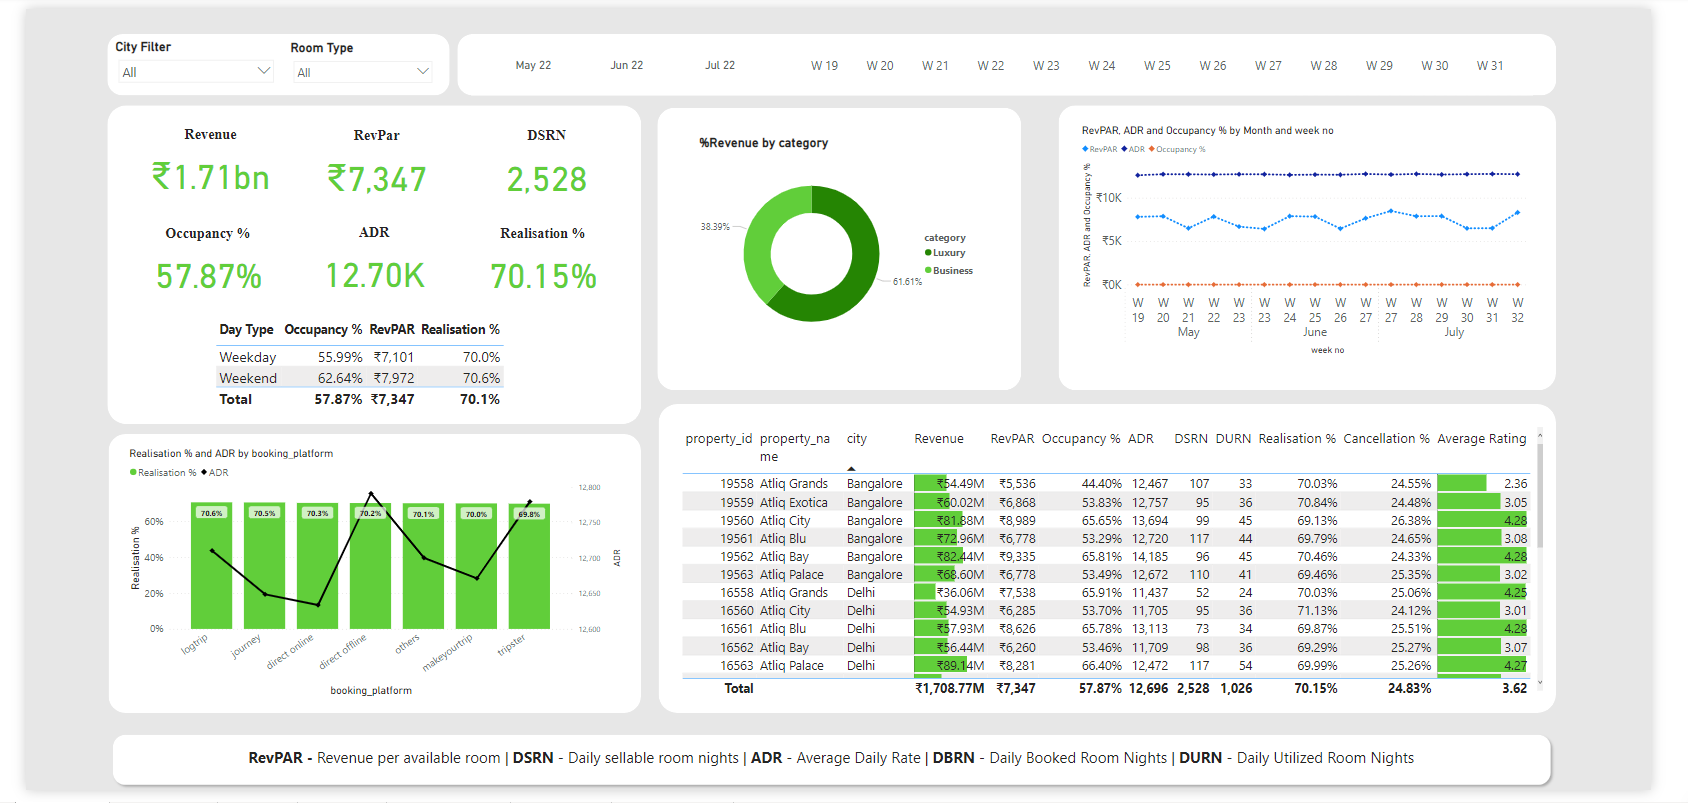

The dashboard page shown, as its layout file describes it:
{"tool":"powerbi","page":{"name":"Page 1","canvas":[2600,1250],"ordinal":0},"visuals":[{"type":"shape","box":[1012,632,1436,494],"z":0},{"type":"shape","box":[132,680,852,446],"z":1000},{"type":"shape","box":[1652,154,796,456],"z":2000},{"type":"shape","box":[1010,158,582,452],"z":3000},{"type":"shape","box":[130,154,854,510],"z":4000},{"type":"shape","box":[690,40,1758,98],"z":5000},{"type":"shape","box":[130,40,548,98],"z":6000},{"type":"tableEx","fields":{"Values":["dim_hotels.property_id","dim_hotels.property_name","dim_hotels.city","key_measure.Revenue","key_measure.RevPAR","key_measure.Occupancy %","key_measure.ADR","key_measure.DSRN","key_measure.DURN","key_measure.Realisation %","key_measure.Cancellation %","key_measure.Average Rating"]},"box":[1044,664,1388,440],"z":7000},{"type":"slicer","title":"City Filter","fields":{"Values":["dim_hotels.city"]},"box":[138,48,268,74],"z":8000},{"type":"slicer","title":"Room Type ","fields":{"Values":["dim_rooms.room_class"]},"box":[418,50,242,72],"z":9000},{"type":"slicer","fields":{"Values":["dim_date.mmm yy"]},"box":[712,40,496,98],"z":10000},{"type":"slicer","fields":{"Values":["dim_date.week no"]},"box":[1208,40,1202,98],"z":11000},{"type":"card","title":"Revenue","fields":{"Values":["key_measure.Revenue"]},"box":[165.5,188.6,258.6,124.3],"z":12000},{"type":"card","title":"RevPar","fields":{"Values":["key_measure.RevPAR"]},"box":[431.1,189.1,258,124],"z":13000},{"type":"card","title":"Occupancy %","fields":{"Values":["key_measure.Occupancy %"]},"box":[163,346,258.6,124.3],"z":14000},{"type":"card","title":"ADR","fields":{"Values":["key_measure.ADR"]},"box":[427.1,343.1,258,126],"z":15000},{"type":"card","title":"Realisation %","fields":{"Values":["key_measure.Realisation %"]},"box":[698.7,346,258.6,124.3],"z":16000},{"type":"lineClusteredColumnComboChart","fields":{"Category":["fact_bookings.booking_platform"],"Y":["key_measure.Realisation %"],"Y2":["key_measure.ADR"]},"box":[160,700,798,404],"z":17000},{"type":"card","title":"DSRN","fields":{"Values":["key_measure.DSRN"]},"box":[703.1,189.1,258,124],"z":18000},{"type":"donutChart","title":"  %Revenue by category","fields":{"Y":["key_measure.Revenue"],"Category":["dim_hotels.category"]},"box":[1072,202,460,356],"z":19000},{"type":"lineChart","fields":{"Category":["dim_date.mmm yy.Variation.Date Hierarchy.Month","dim_date.week no"],"Y":["key_measure.RevPAR","key_measure.ADR","key_measure.Occupancy %"]},"box":[1684,184,726,374],"z":20000},{"type":"tableEx","fields":{"Values":["dim_date.day_type","key_measure.Occupancy %","key_measure.RevPAR","key_measure.Realisation %"]},"box":[298,492,520,172],"z":21000},{"type":"shape","box":[130,1152,2318,98],"z":22000},{"type":"textbox","box":[160,1176,2250,52],"z":23000}]}

Visuals, with their boxes in screenshot pixels (x1, y1, x2, y2), scaled from the page's 2600x1250 canvas onto the 1688x803 screenshot:
shape: box(657, 406, 1589, 723)
shape: box(86, 437, 639, 723)
shape: box(1073, 99, 1589, 392)
shape: box(656, 101, 1034, 392)
shape: box(84, 99, 639, 427)
shape: box(448, 26, 1589, 89)
shape: box(84, 26, 440, 89)
tableEx - dim_hotels.property_id x dim_hotels.property_name: box(678, 427, 1579, 709)
"City Filter" slicer: box(90, 31, 264, 78)
"Room Type " slicer: box(271, 32, 428, 78)
slicer - dim_date.mmm yy: box(462, 26, 784, 89)
slicer - dim_date.week no: box(784, 26, 1565, 89)
"Revenue" card: box(107, 121, 275, 201)
"RevPar" card: box(280, 121, 447, 201)
"Occupancy %" card: box(106, 222, 274, 302)
"ADR" card: box(277, 220, 445, 301)
"Realisation %" card: box(454, 222, 622, 302)
lineClusteredColumnComboChart - fact_bookings.booking_platform x key_measure.Realisation %: box(104, 450, 622, 709)
"DSRN" card: box(456, 121, 624, 201)
"  %Revenue by category" donutChart: box(696, 130, 995, 358)
lineChart - dim_date.mmm yy.Variation.Date Hierarchy.Month x dim_date.week no: box(1093, 118, 1565, 358)
tableEx - dim_date.day_type x key_measure.Occupancy %: box(193, 316, 531, 427)
shape: box(84, 740, 1589, 802)
textbox: box(104, 755, 1565, 789)
